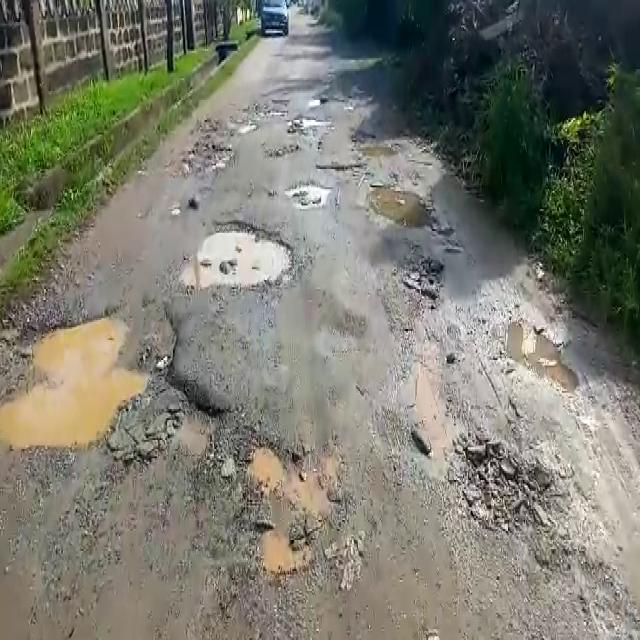Pothole: (0, 304, 229, 461), (217, 438, 346, 580), (455, 435, 560, 539), (178, 218, 304, 293), (491, 315, 582, 396), (365, 184, 437, 234), (390, 249, 444, 302), (166, 144, 234, 182), (284, 180, 329, 207), (313, 158, 362, 174)
